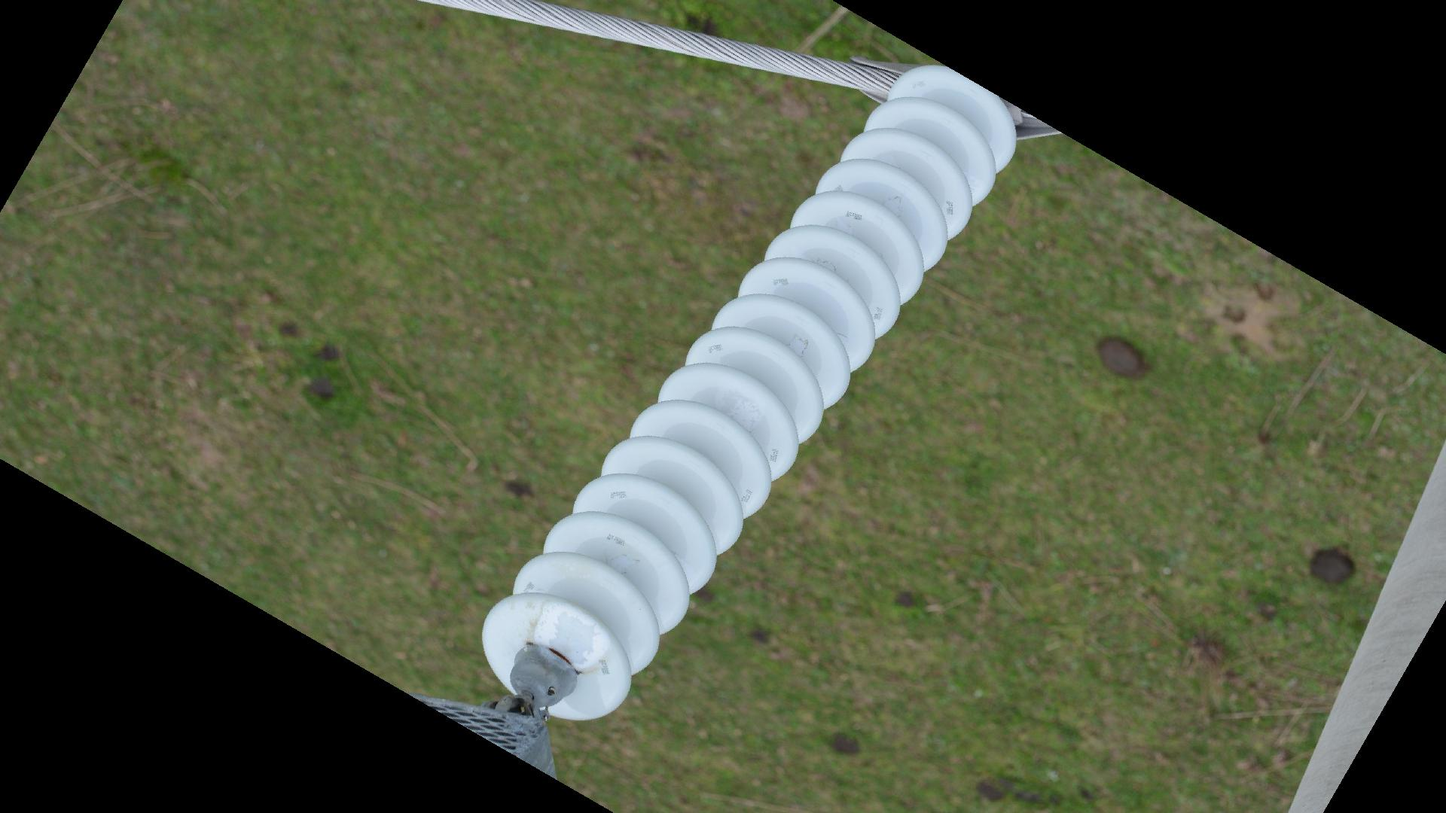insulator: (476, 60, 1027, 729)
insulator_flashover: (532, 597, 610, 674)
